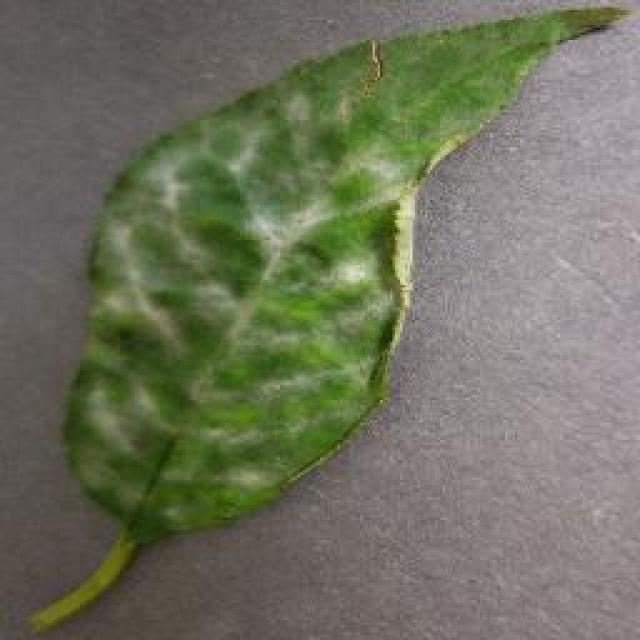Cherry___Powdery_mildew: (84, 65, 417, 462)
